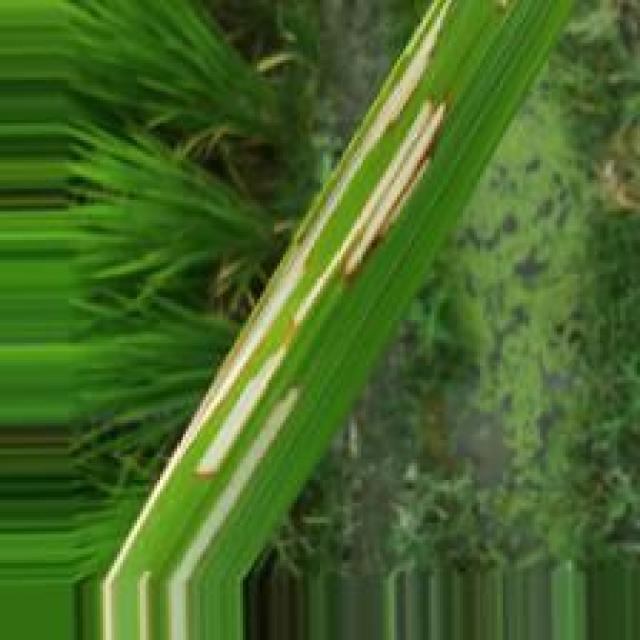Rice_Hispa: (157, 8, 445, 478), (292, 97, 454, 331), (170, 394, 291, 637)
